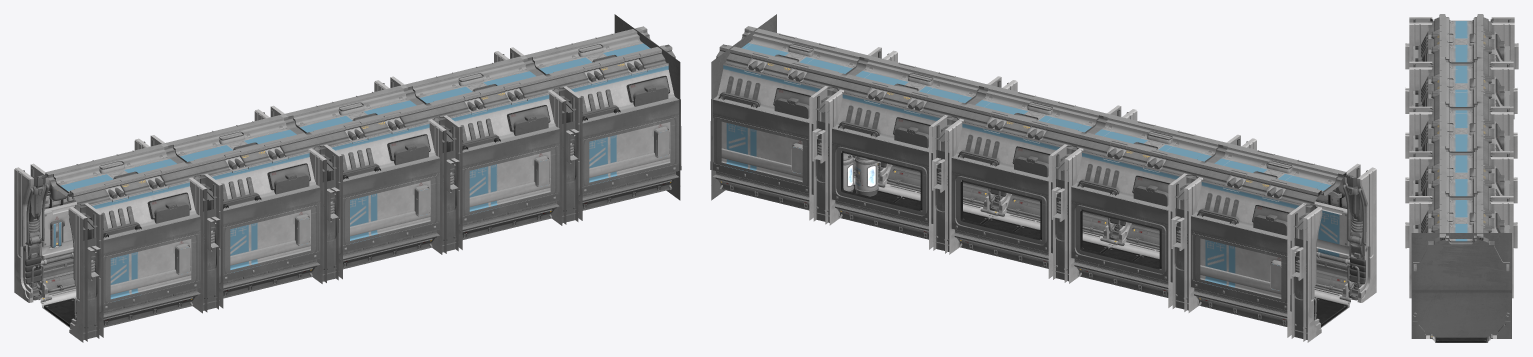
Rendered from transition.glb.
3 views of the same model, side by side, from view 1: azimuth 30°, elevation 25°; view 2: azimuth 150°, elevation 25°; view 3: azimuth 270°, elevation 25° (orthographic). The views are drawn at different scales.
Parts seen in each view (by area): view 1: Object033_01 - Default_0 (×2); view 2: Object033_01 - Default_0 (×2); view 3: Object033_01 - Default_0 (×2).
Boxes of the visible parts, x1=… form: Object033_01 - Default_0 (×2): x1=14, y1=14, x2=681, y2=342; Object033_01 - Default_0 (×2): x1=710, y1=14, x2=1376, y2=342; Object033_01 - Default_0 (×2): x1=1405, y1=14, x2=1518, y2=342.
Bounding box in the file's own units: 14.81 × 3.23 × 3.12.
Materials: 6 (1 with a texture image).
